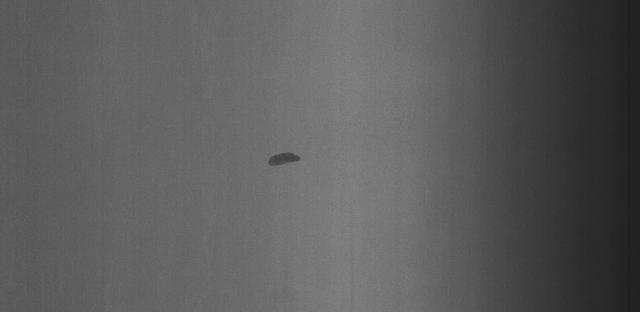oil_spot: (264, 143, 308, 172)
